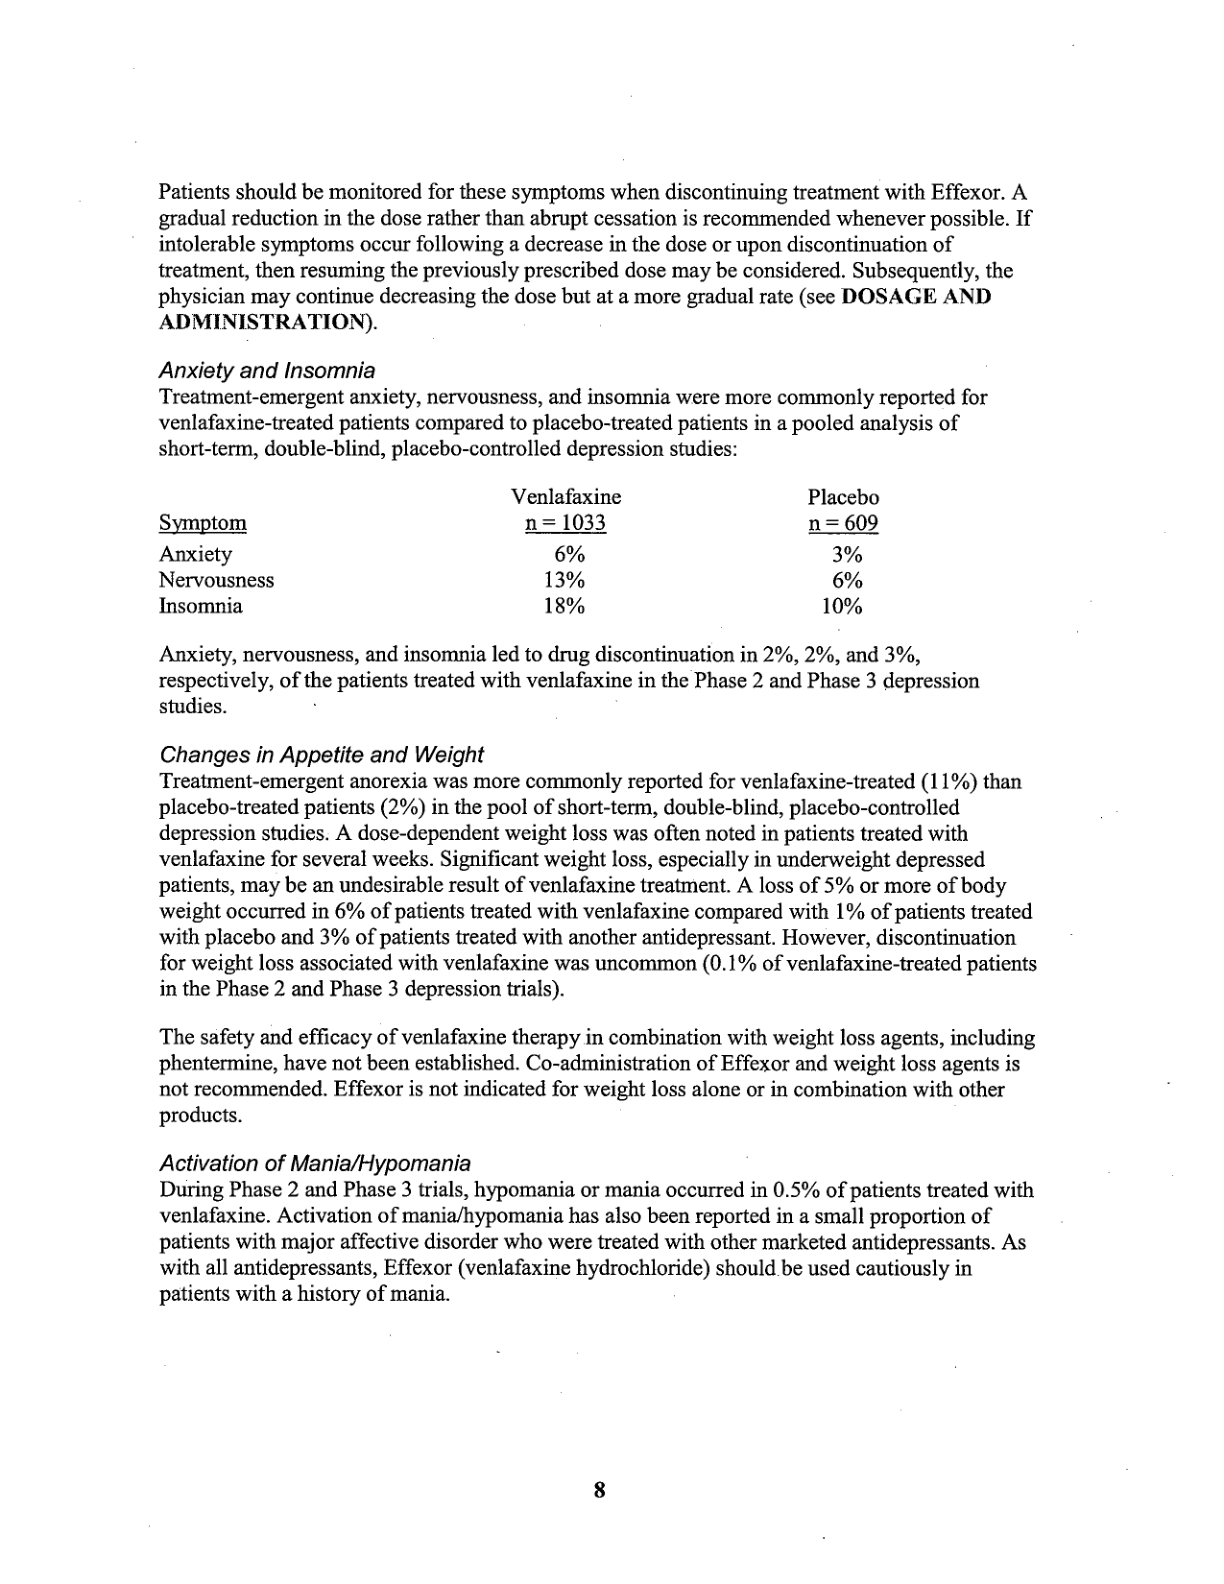nolines: (154, 482, 882, 618)
